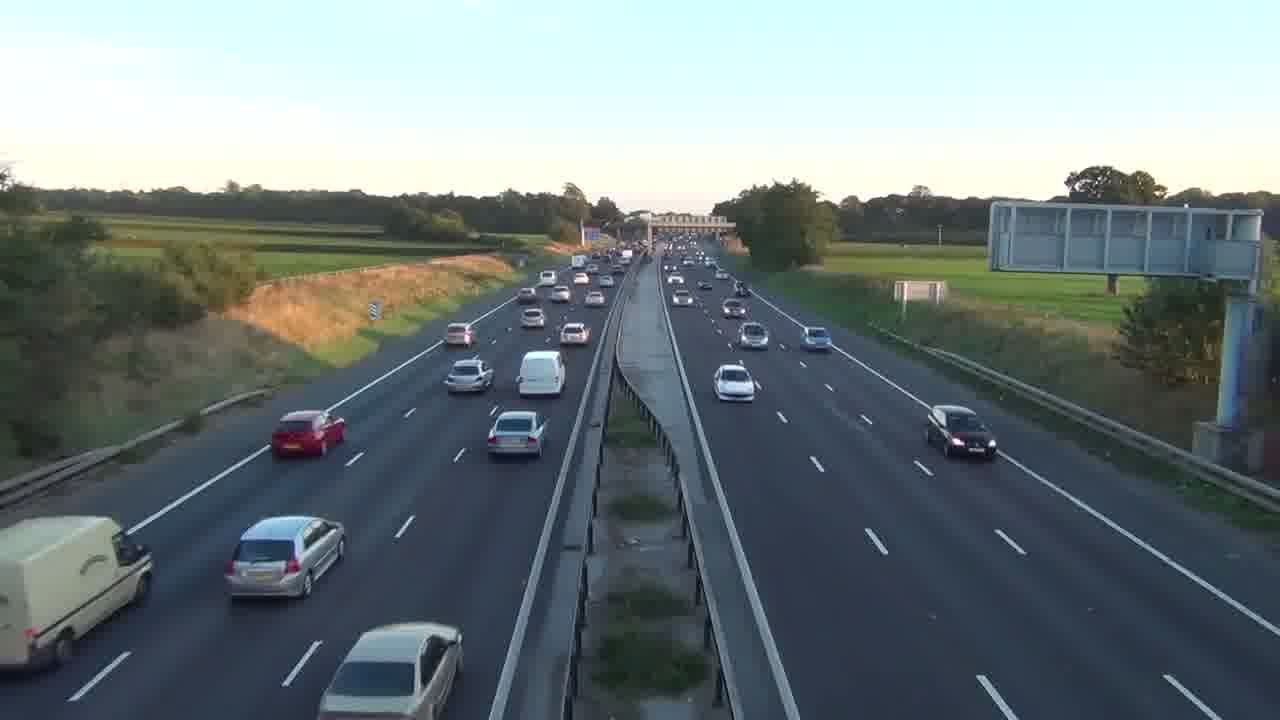car: (317, 620, 464, 718), (223, 513, 346, 600), (925, 403, 997, 461), (486, 409, 549, 458), (444, 357, 495, 393), (712, 363, 757, 403), (739, 321, 769, 350), (800, 326, 833, 352), (559, 321, 592, 346), (445, 322, 475, 347), (520, 306, 546, 329)
truck: (1, 513, 155, 673)
